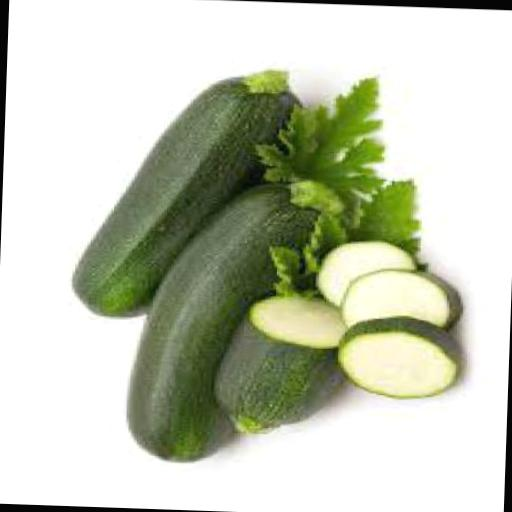biodegradable: (68, 57, 301, 320), (122, 174, 318, 464), (207, 287, 346, 435), (246, 68, 388, 194), (334, 312, 460, 396), (336, 264, 464, 334), (339, 175, 428, 266), (315, 233, 418, 309), (264, 208, 343, 292), (276, 174, 344, 208)
